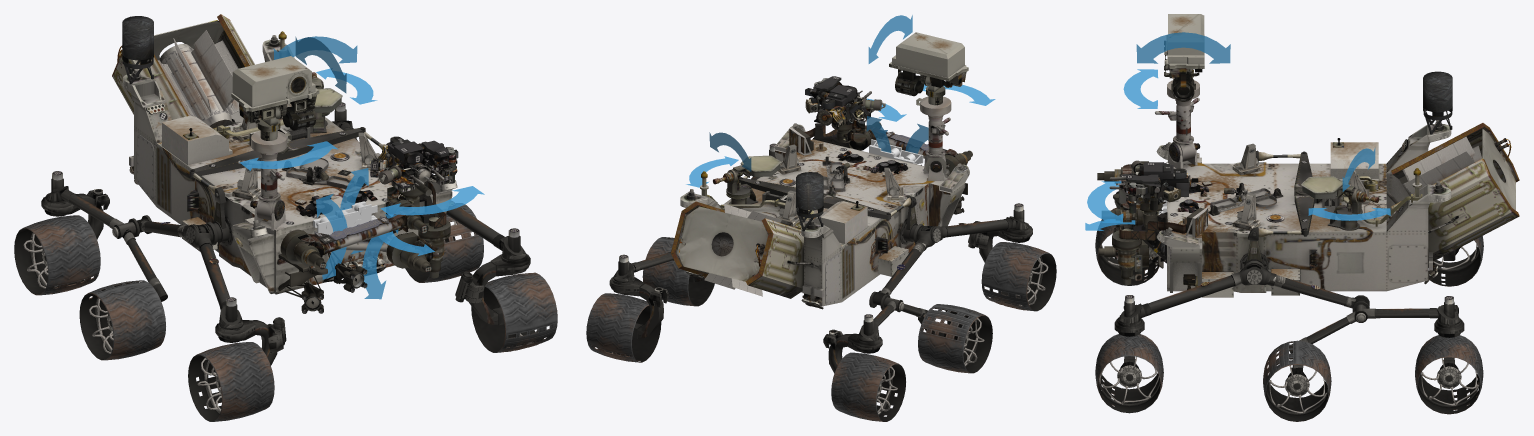
The model's file is curiosity.glb.
3 renders of one model, left to right at view 1: azimuth 30°, elevation 25°; view 2: azimuth 150°, elevation 25°; view 3: azimuth 270°, elevation 25°, orthographic. The views are drawn at different scales.
Parts seen in each view (by area): view 1: chassis, parts, wheel_3_R, wheel_2_R, wheel_1_R, RTG, wheel_1_L, mast_03, susp_1_R, arm_03, susp_2_R, wheel_2_L (+26 smaller); view 2: parts, chassis, wheel_1_R, wheel_3_R, wheel_2_R, wheel_3_L, susp_1_R, mast_03, wheel_2_L, susp_4_L, RTG, antenna_UHF (+21 smaller); view 3: chassis, parts, susp_1_L, wheel_2_L, wheel_1_L, wheel_3_L, susp_2_L, mast_03, RTG, mast_03_arrow, antenna_UHF, DAN (+17 smaller).
Part boxes in pixels (x1,y1,x2,y2): chassis: [122, 39, 457, 294]; parts: [112, 14, 450, 313]; wheel_3_R: [14, 215, 100, 295]; wheel_2_R: [79, 280, 165, 360]; wheel_1_R: [188, 342, 274, 421]; RTG: [157, 30, 243, 128]; wheel_1_L: [471, 272, 557, 352]; mast_03: [231, 56, 319, 111]; susp_1_R: [137, 202, 243, 329]; arm_03: [298, 199, 428, 257]; susp_2_R: [45, 171, 167, 301]; wheel_2_L: [405, 203, 483, 282]; parts: [670, 123, 967, 309]; chassis: [680, 124, 969, 306]; wheel_1_R: [981, 242, 1056, 311]; wheel_3_R: [831, 352, 905, 421]; wheel_2_R: [918, 304, 992, 373]; wheel_3_L: [586, 293, 661, 362]; susp_1_R: [873, 203, 1029, 305]; mast_03: [889, 32, 968, 81]; wheel_2_L: [642, 237, 714, 306]; susp_4_L: [609, 277, 669, 338]; RTG: [704, 203, 782, 296]; antenna_UHF: [796, 172, 823, 231]; chassis: [1156, 124, 1451, 292]; parts: [1112, 120, 1519, 297]; susp_1_L: [1118, 240, 1366, 324]; wheel_2_L: [1263, 340, 1331, 421]; wheel_1_L: [1095, 334, 1163, 413]; wheel_3_L: [1415, 335, 1483, 414]; susp_2_L: [1289, 295, 1460, 371]; mast_03: [1164, 14, 1204, 68]; RTG: [1402, 136, 1499, 194]; mast_03_arrow: [1136, 32, 1230, 63]; antenna_UHF: [1423, 71, 1452, 134]; DAN: [1388, 244, 1427, 282].
Size of the model in its own units: 2.78 by 2.33 by 3.07.
10 materials, 9 textured.
